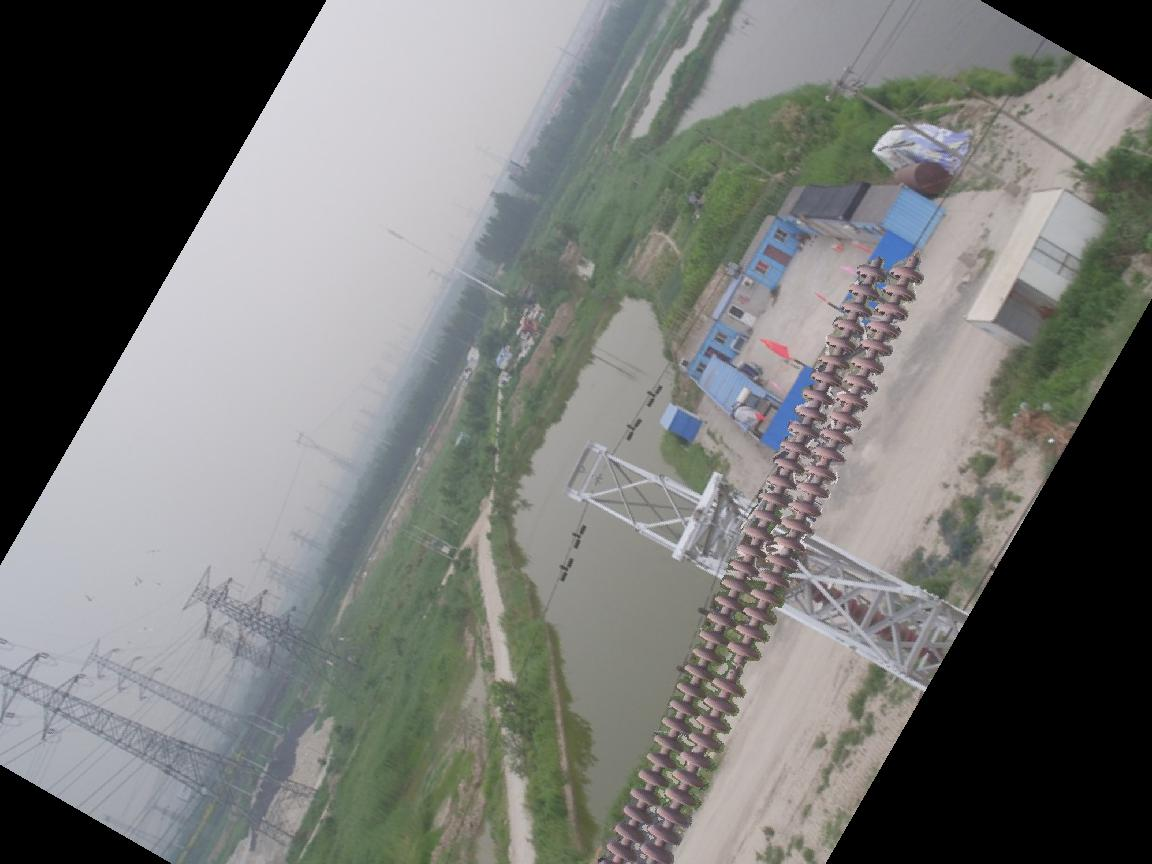insulator: (592, 258, 930, 864)
insulator_stringdrop: (709, 634, 763, 699)
